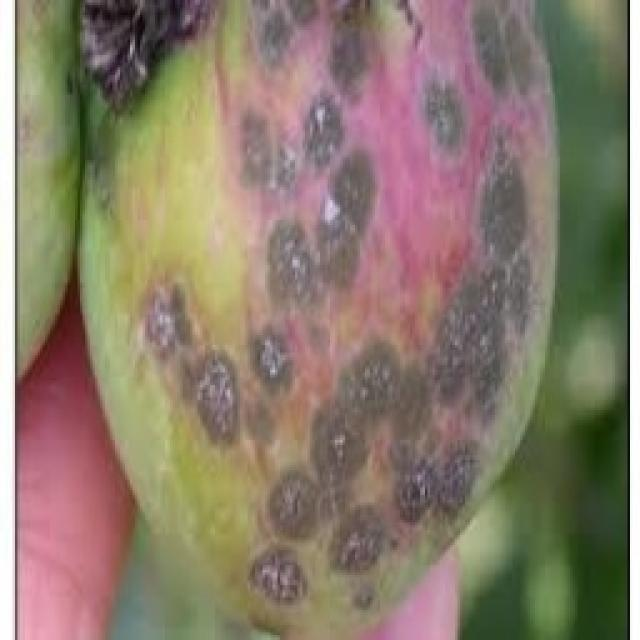defective: (18, 0, 562, 638)
